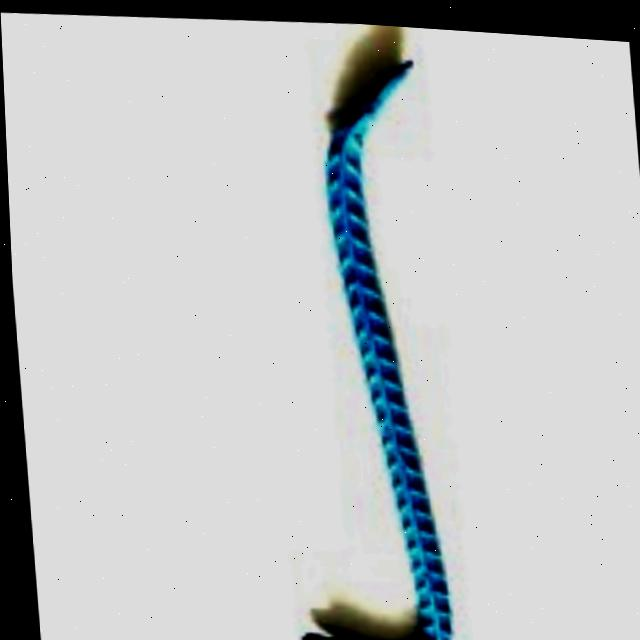crow bar: (237, 33, 467, 640)
